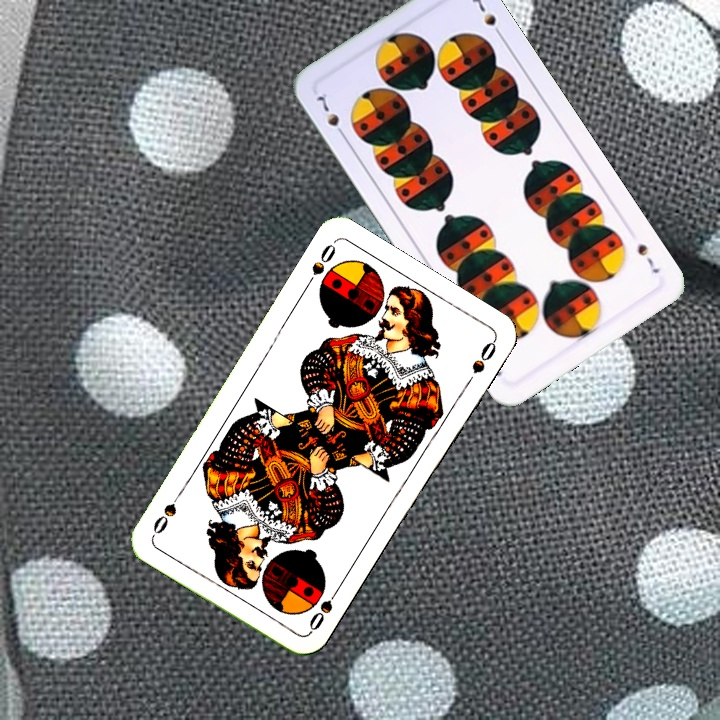S7: (313, 89, 349, 142), (633, 239, 663, 276)
SO: (304, 582, 343, 635), (301, 238, 339, 291)
